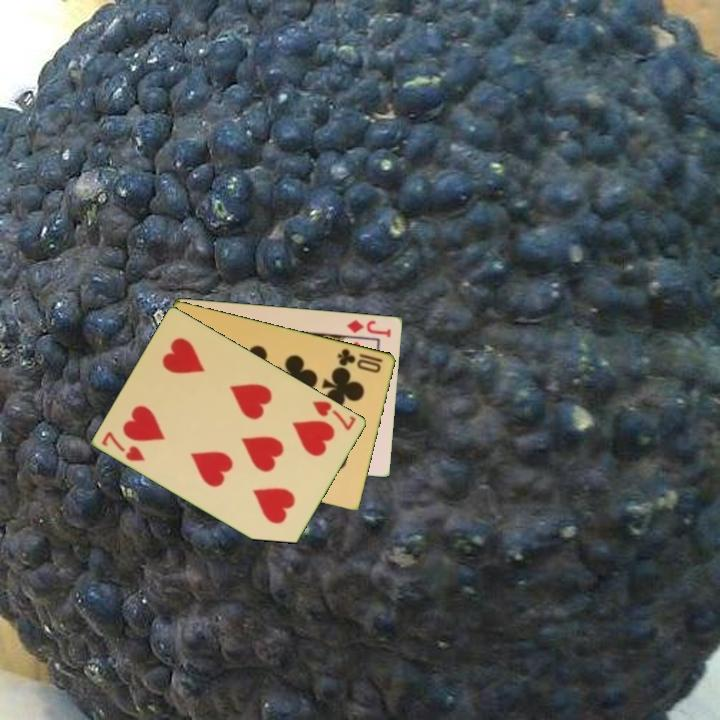10c: (334, 345, 386, 376)
7h: (98, 428, 149, 464), (309, 397, 359, 433)
Jd: (344, 316, 394, 340)
